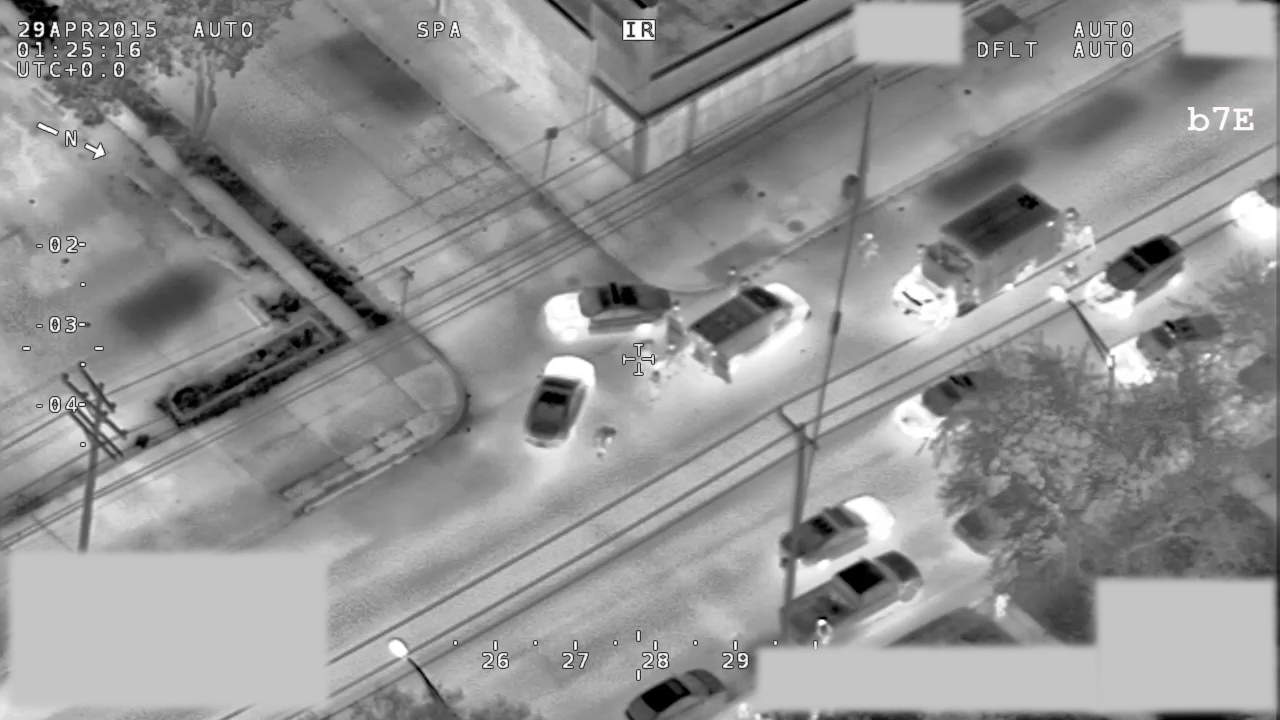vehicle: (889, 179, 1070, 326), (666, 277, 811, 380), (782, 550, 924, 644), (955, 460, 1087, 559), (1103, 313, 1227, 386), (1081, 234, 1189, 317), (892, 364, 1005, 442), (781, 494, 897, 567), (540, 282, 677, 342), (522, 355, 602, 450), (619, 664, 728, 720), (1227, 174, 1280, 237)
